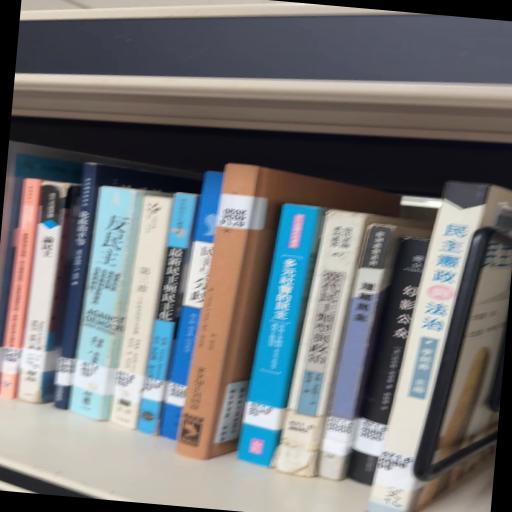reverse: (176, 165, 400, 460)
